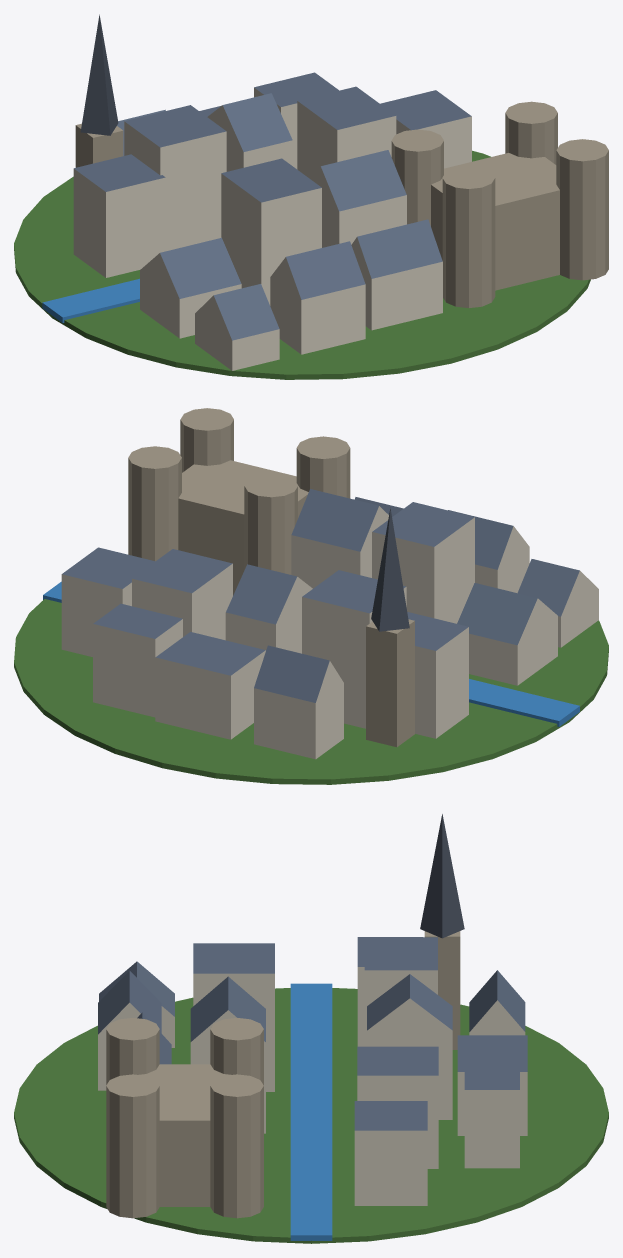
Rendered from limerick.glb.
The picture shows the model from 3 angles, top to bottom: view 1: azimuth 30°, elevation 25°; view 2: azimuth 150°, elevation 25°; view 3: azimuth 270°, elevation 25°; orthographic projection. The views are drawn at different scales.
Bounding box in the file's own units: 2 × 0.87 × 2.
